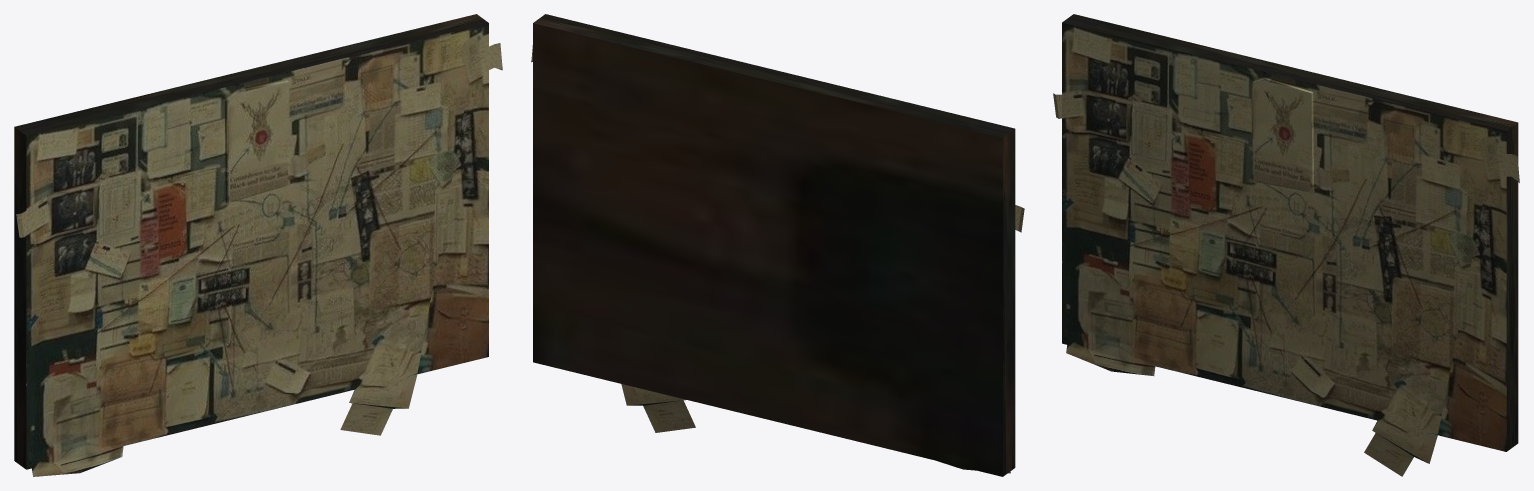
File: board.glb
The picture shows the model from 3 angles, left to right: view 1: azimuth 30°, elevation 25°; view 2: azimuth 150°, elevation 25°; view 3: azimuth 330°, elevation 25°; orthographic projection. The views are drawn at different scales.
Visible parts, largest first — view 1: board; view 2: board; view 3: board.
Boxes of the visible parts, left/top/right/bottom form: board: left=14, top=14, right=502, bottom=476; board: left=531, top=14, right=1024, bottom=476; board: left=1053, top=14, right=1519, bottom=476.
Bounding box in the file's own units: 11.16 × 8.47 × 0.5528.
1 material, 1 textured.
